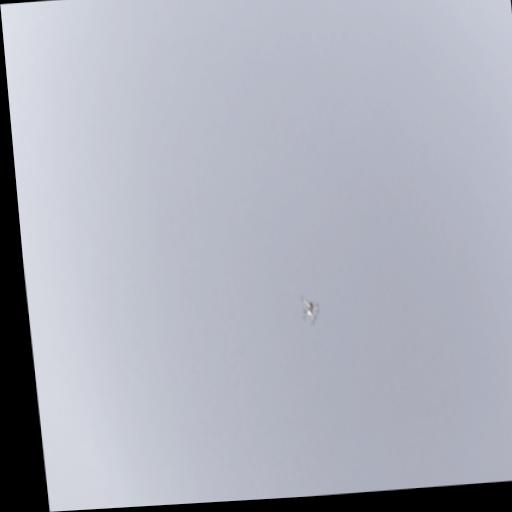drones: (298, 290, 324, 328)
